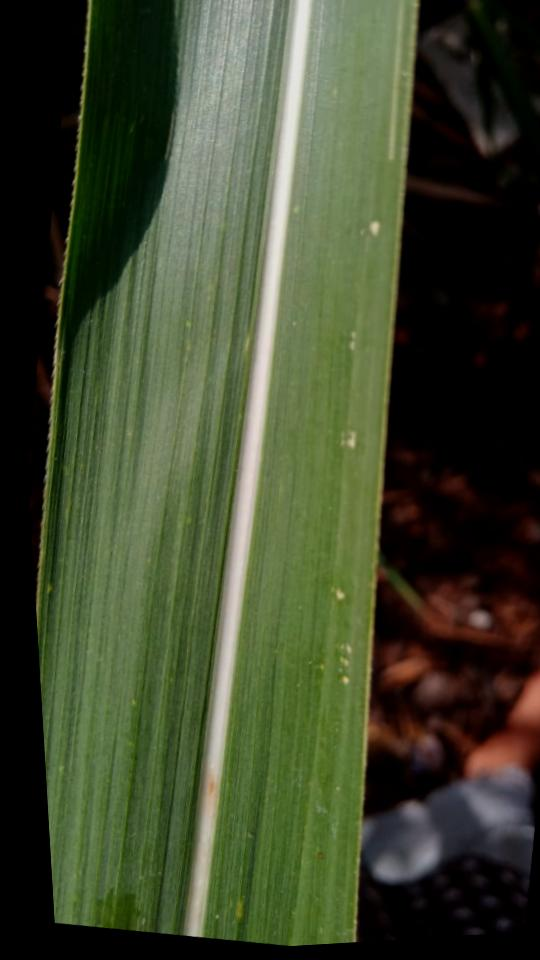Healthy: (38, 0, 417, 945)
